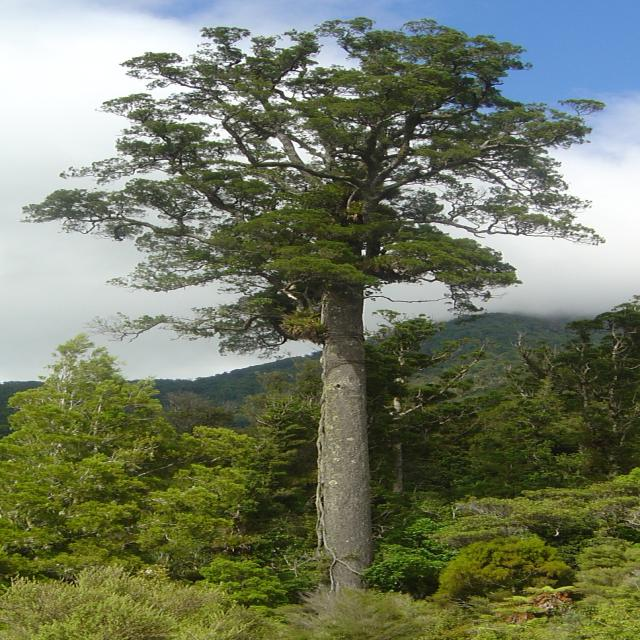Kahikatea: (61, 19, 552, 577)
